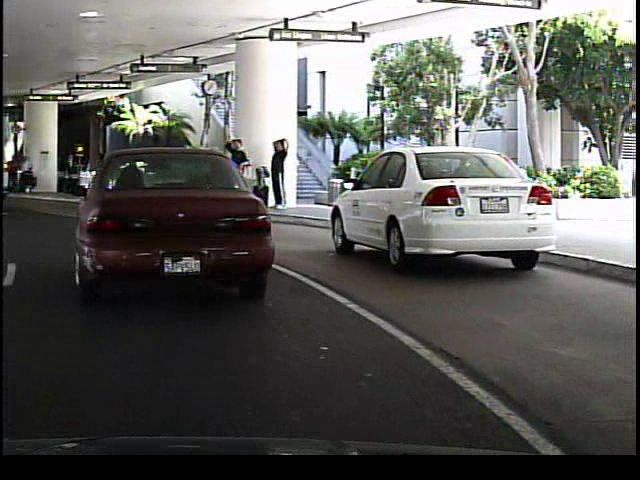person: (222, 132, 247, 211), (267, 133, 289, 211), (281, 146, 304, 209), (116, 156, 131, 194)
